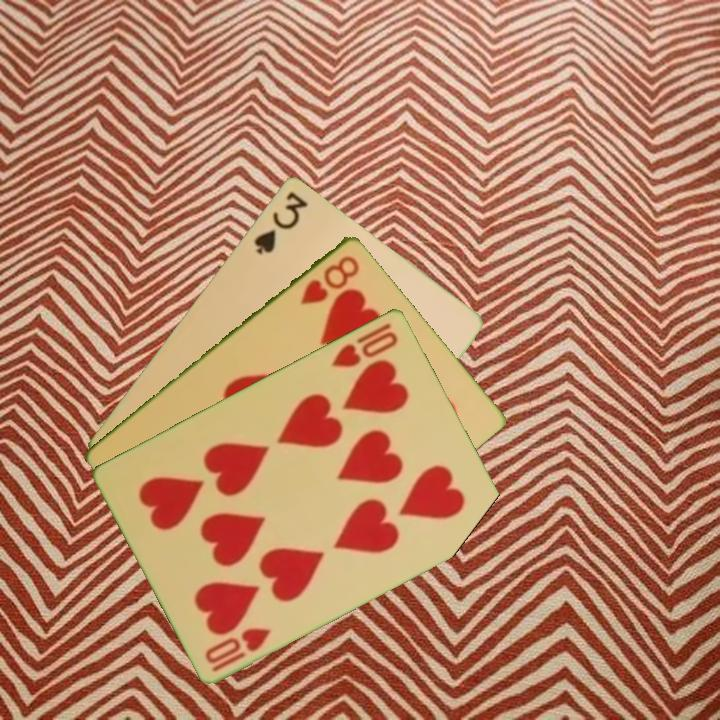10h: (327, 318, 401, 370), (201, 623, 274, 675)
3s: (250, 187, 311, 258)
8h: (296, 251, 363, 308)
